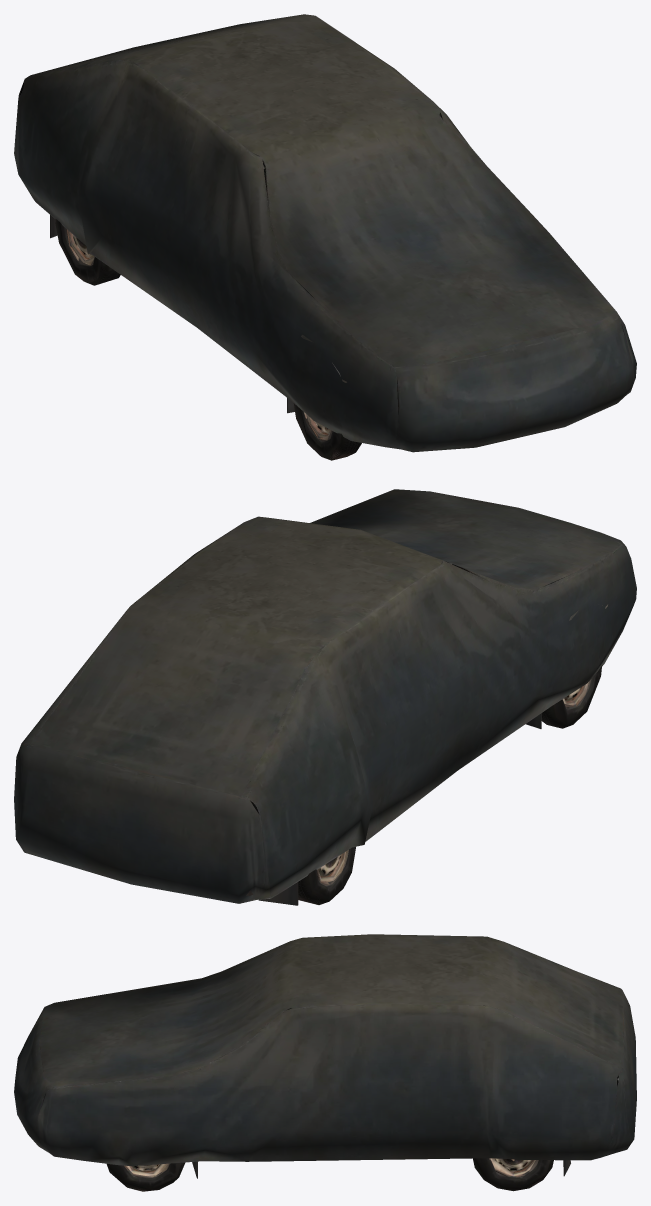
Rendered from covered_car.glb.
The picture shows the model from 3 angles, top to bottom: view 1: azimuth 30°, elevation 25°; view 2: azimuth 150°, elevation 25°; view 3: azimuth 270°, elevation 25°; orthographic projection. The views are drawn at different scales.
Visible parts, largest first — view 1: covered_car_wheel_01; view 2: covered_car_wheel_01; view 3: covered_car_wheel_01.
Part boxes in pixels (left/top/right/bottom): covered_car_wheel_01: left=14, top=14, right=636, bottom=460; covered_car_wheel_01: left=14, top=489, right=636, bottom=905; covered_car_wheel_01: left=14, top=934, right=636, bottom=1191.
Size of the model in its own units: 1.79 by 1.41 by 4.38.
1 material, 1 textured.
